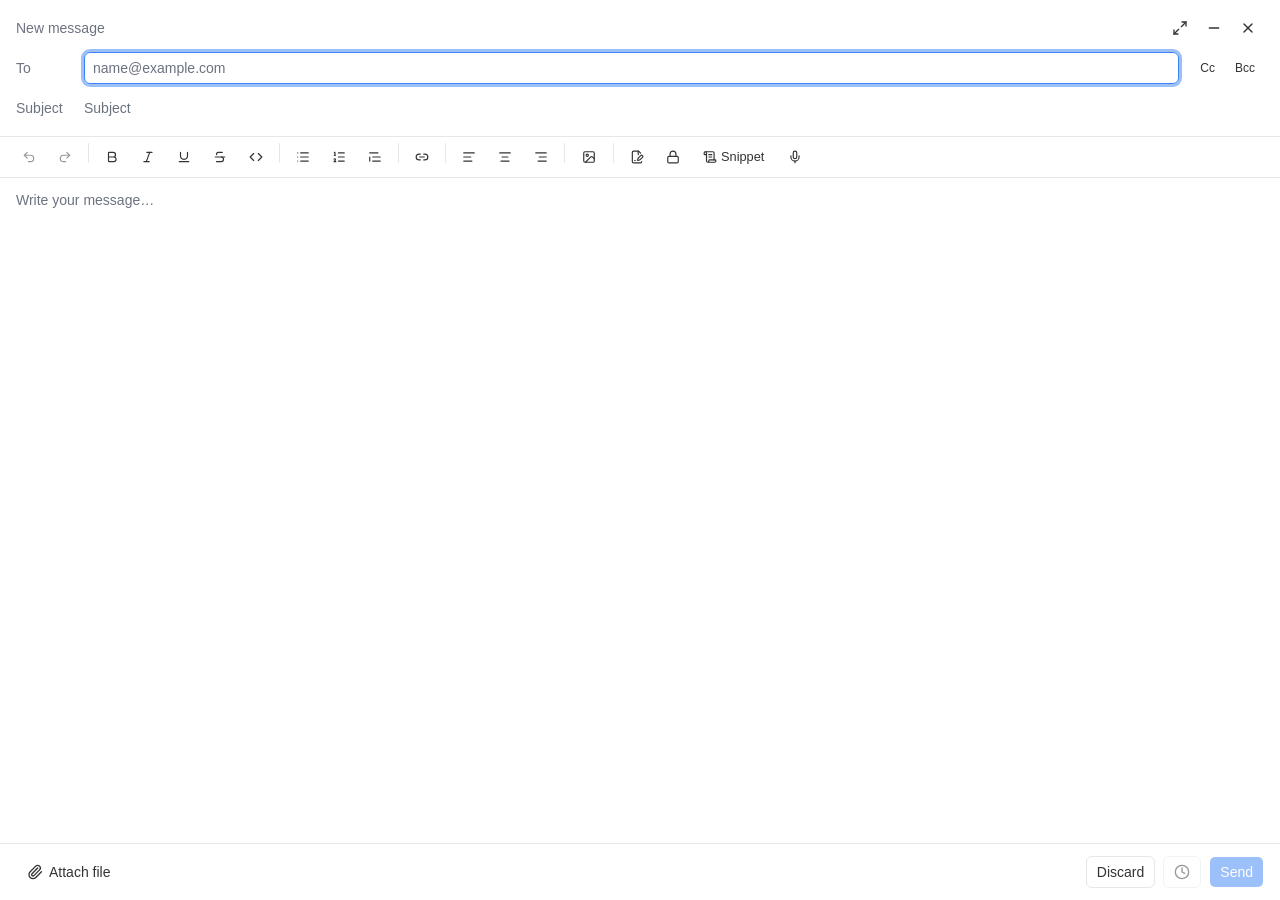
Test case: dictation happy path › returns to the idle mic after the insertion
Expected: the field named "Message body" is shown, [16,190,1264,350]
Step 1. Click the button with test id "dictation-button" → (795,157), box [777,143,813,171]
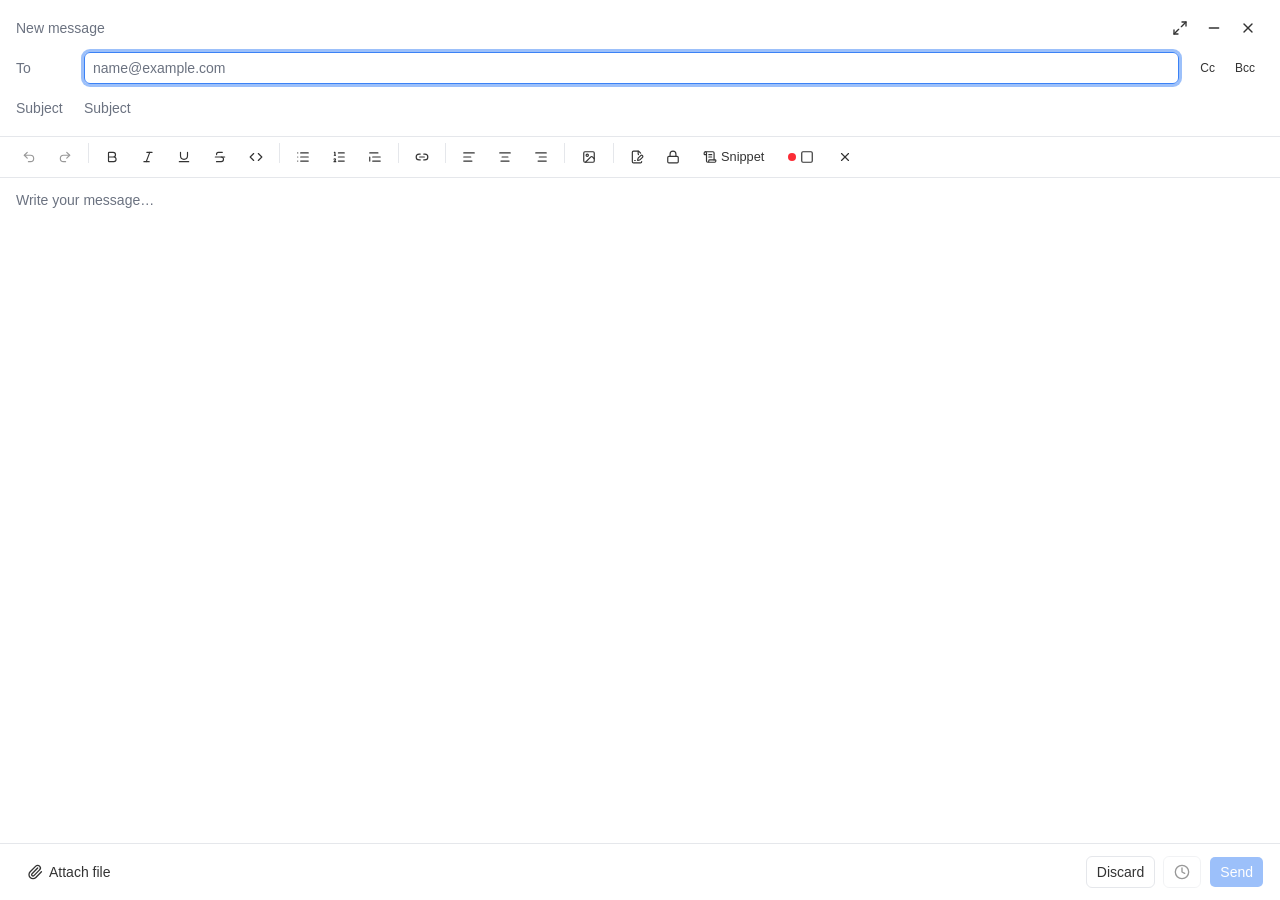
Now the element with test id "dictation-recording-dot" is shown, box [788,153,796,161]
Step 2. Click the button named "Stop dictation" → (801,157), box [777,143,825,171]
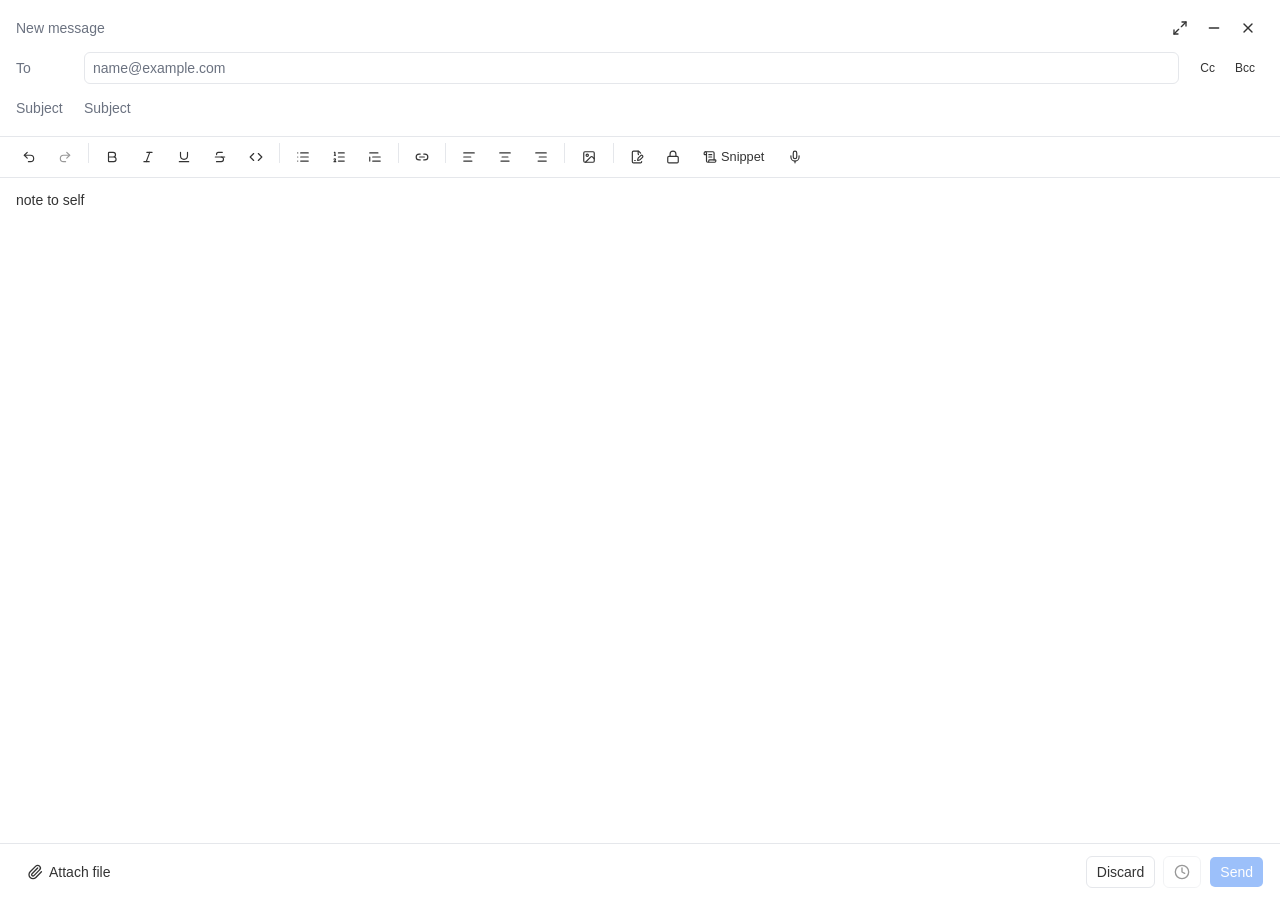
Now the text box labelled "note to self" is shown, box [16,192,84,208]
Now the button with test id "dictation-cancel" is gone
